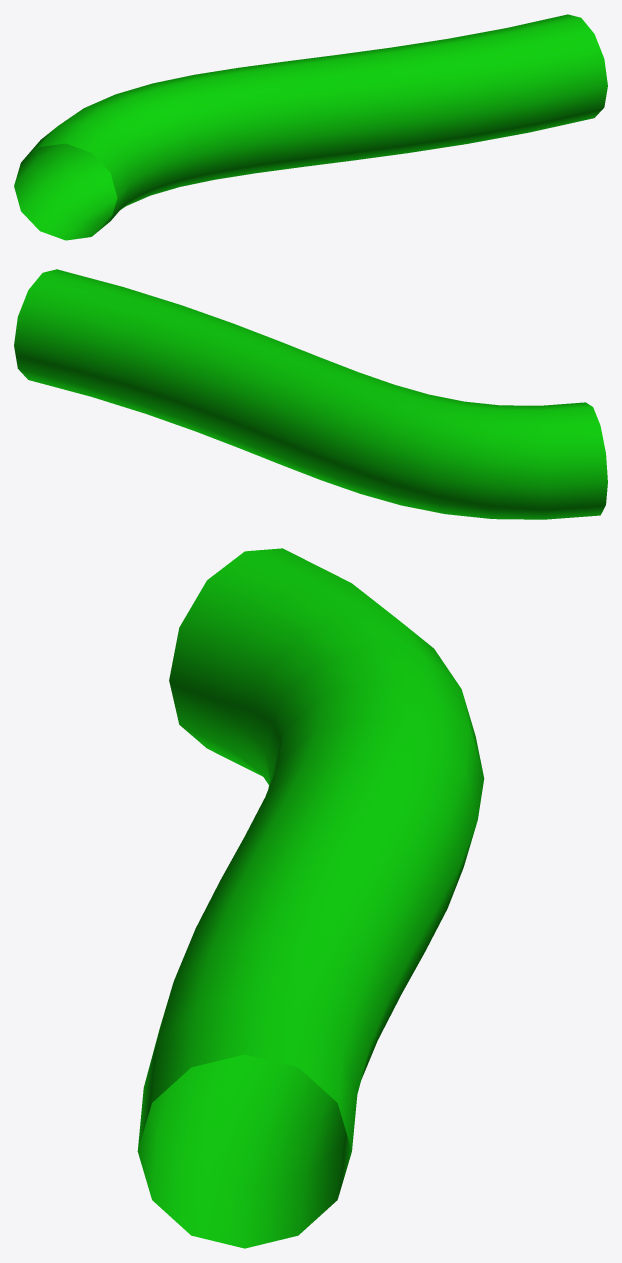
File: SnakeBody.obj
3 renders of one model, top to bottom at view 1: azimuth 30°, elevation 25°; view 2: azimuth 150°, elevation 25°; view 3: azimuth 270°, elevation 25°, orthographic. The views are drawn at different scales.
Parts seen in each view (by area): view 1: BézierCurve; view 2: BézierCurve; view 3: BézierCurve.
Part boxes in pixels (<box>): BézierCurve: <box>14,14,607,240</box>; BézierCurve: <box>14,269,607,519</box>; BézierCurve: <box>137,548,484,1248</box>.
Bounding box in the file's own units: 2.13 × 0.36 × 0.5822.
